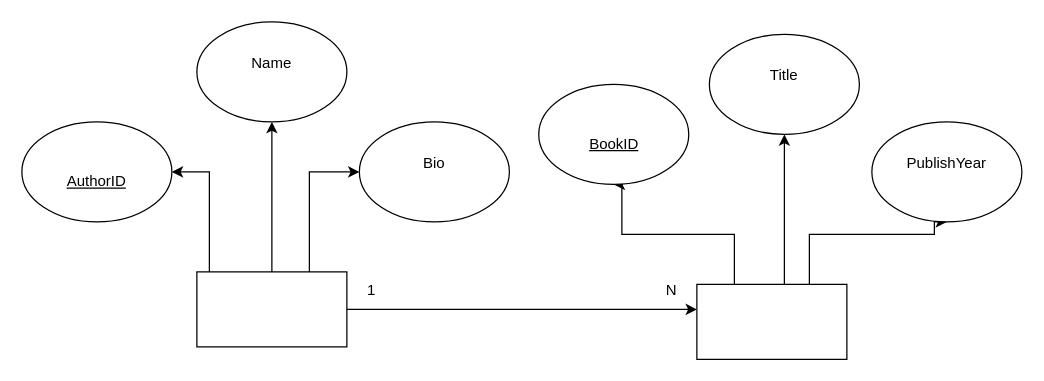
This 1044x381 diagram has some shape labels left out. Each missing label, with the centre of its shape:
AUTHORS: (x=271, y=309)
BOOKS: (x=771, y=321)
